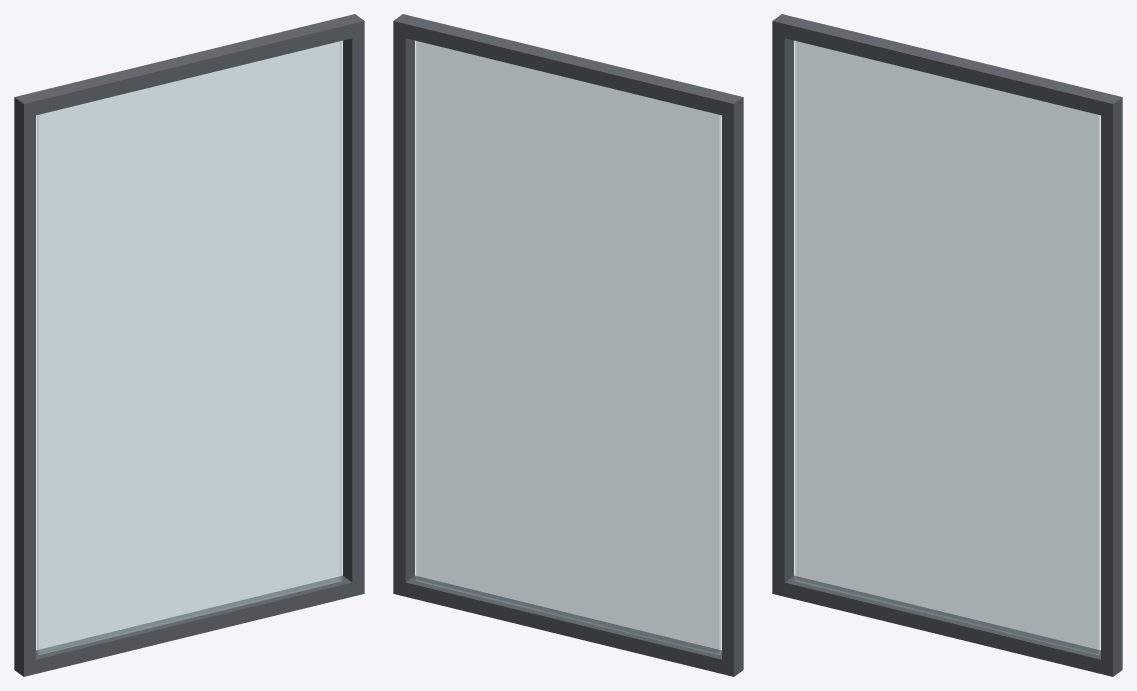
The model's file is division-negro-claro.glb.
3 views of the same model, side by side, from view 1: azimuth 30°, elevation 25°; view 2: azimuth 150°, elevation 25°; view 3: azimuth 330°, elevation 25° (orthographic).
Visible parts, largest first — view 1: glass, post-0.6, post0.6, rail1.975, rail0.025; view 2: glass, post-0.6, post0.6, rail1.975, rail0.025; view 3: glass, post0.6, post-0.6, rail1.975, rail0.025.
Boxes of the visible parts, <box> form: glass: <box>36,41,342,654</box>; post-0.6: <box>14,94,35,676</box>; post0.6: <box>343,14,364,596</box>; rail1.975: <box>21,17,357,116</box>; rail0.025: <box>36,575,354,673</box>; glass: <box>415,41,721,654</box>; post-0.6: <box>722,94,743,676</box>; post0.6: <box>393,14,414,596</box>; rail1.975: <box>399,17,736,116</box>; rail0.025: <box>402,575,727,673</box>; glass: <box>794,41,1100,654</box>; post0.6: <box>1101,94,1122,676</box>; post-0.6: <box>772,14,793,596</box>; rail1.975: <box>778,17,1115,116</box>; rail0.025: <box>781,575,1106,673</box>.
Bounding box in the file's own units: 1.25 × 2 × 0.06.
